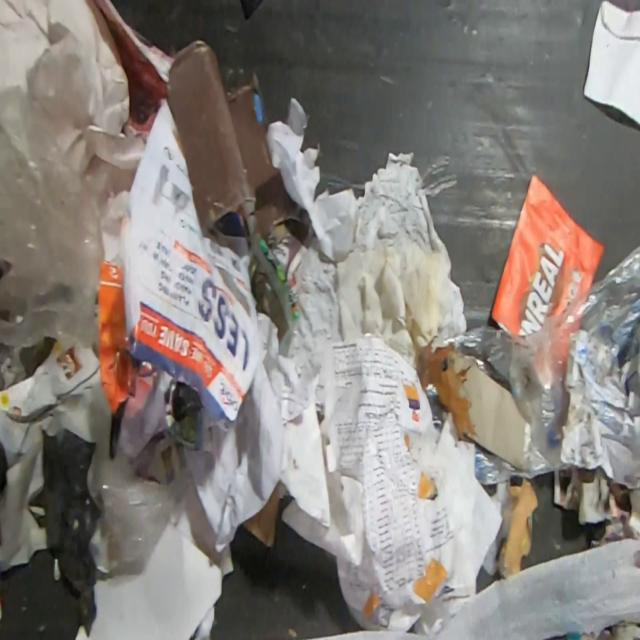soft_plastic: (442, 242, 640, 486), (0, 46, 118, 392), (85, 449, 188, 588), (426, 384, 446, 432)
